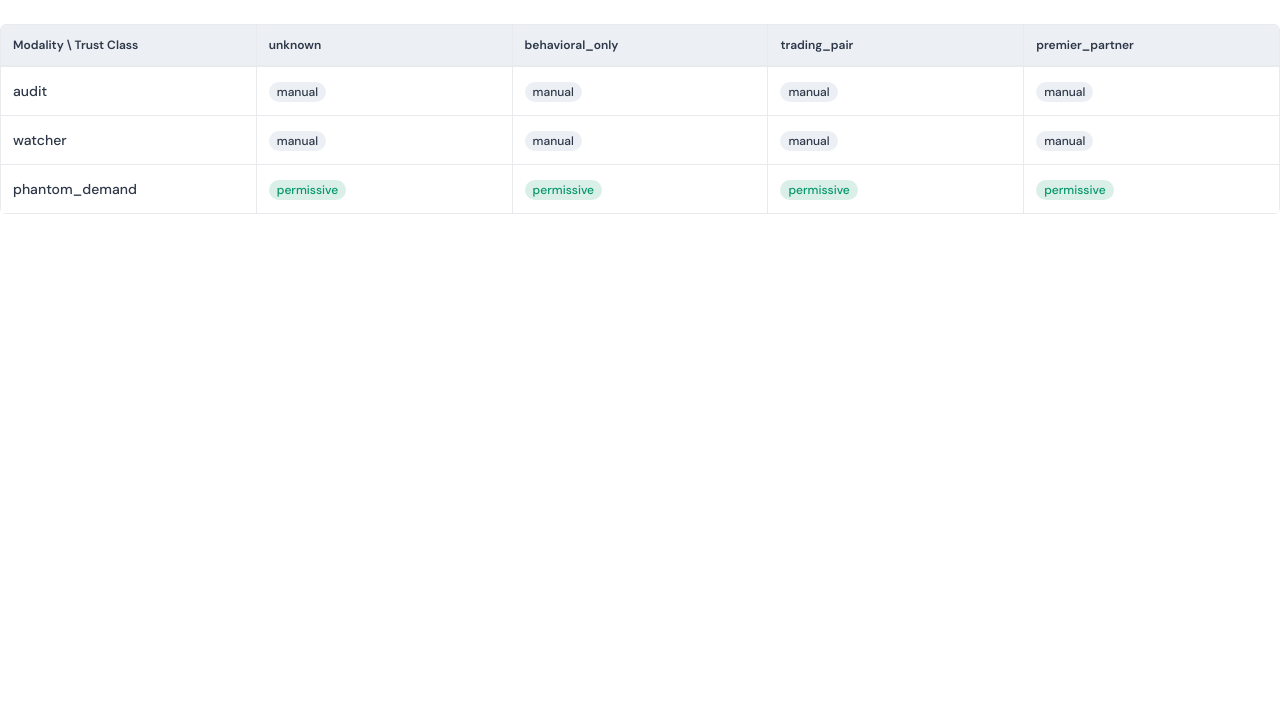
Test: PostureGrid › opens drawer when a cell is clicked and closes when × is clicked
Click the button with aria-label "audit posture for trading_pair" at (896, 91), box [768,67,1023,115]
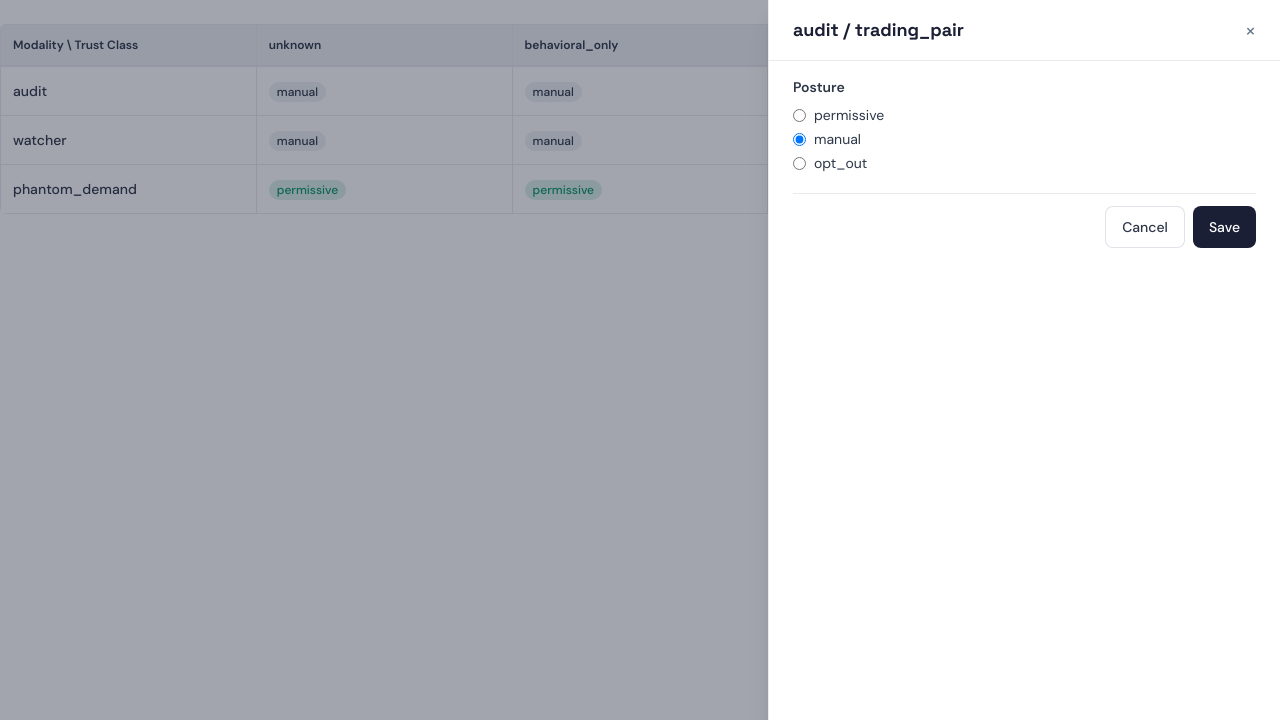
expect the heading "audit / trading_pair" is shown: met, box [793,16,964,44]
